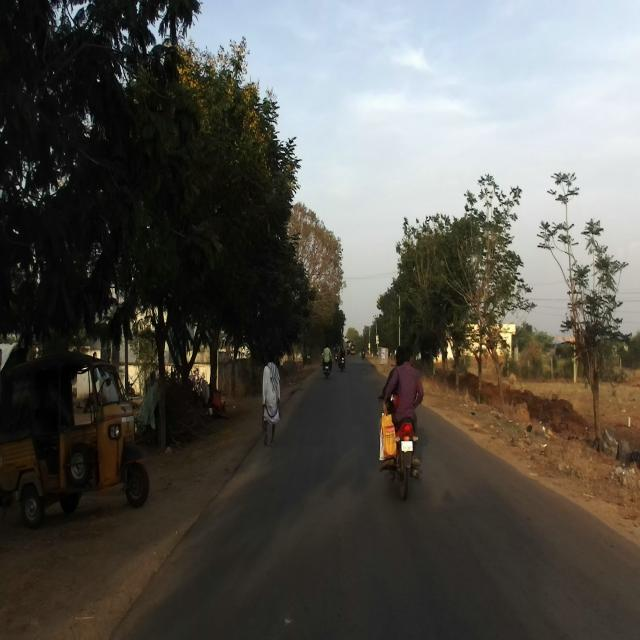autorickshaw: (0, 352, 149, 527)
motorcycle_Hero: (377, 394, 419, 500)
